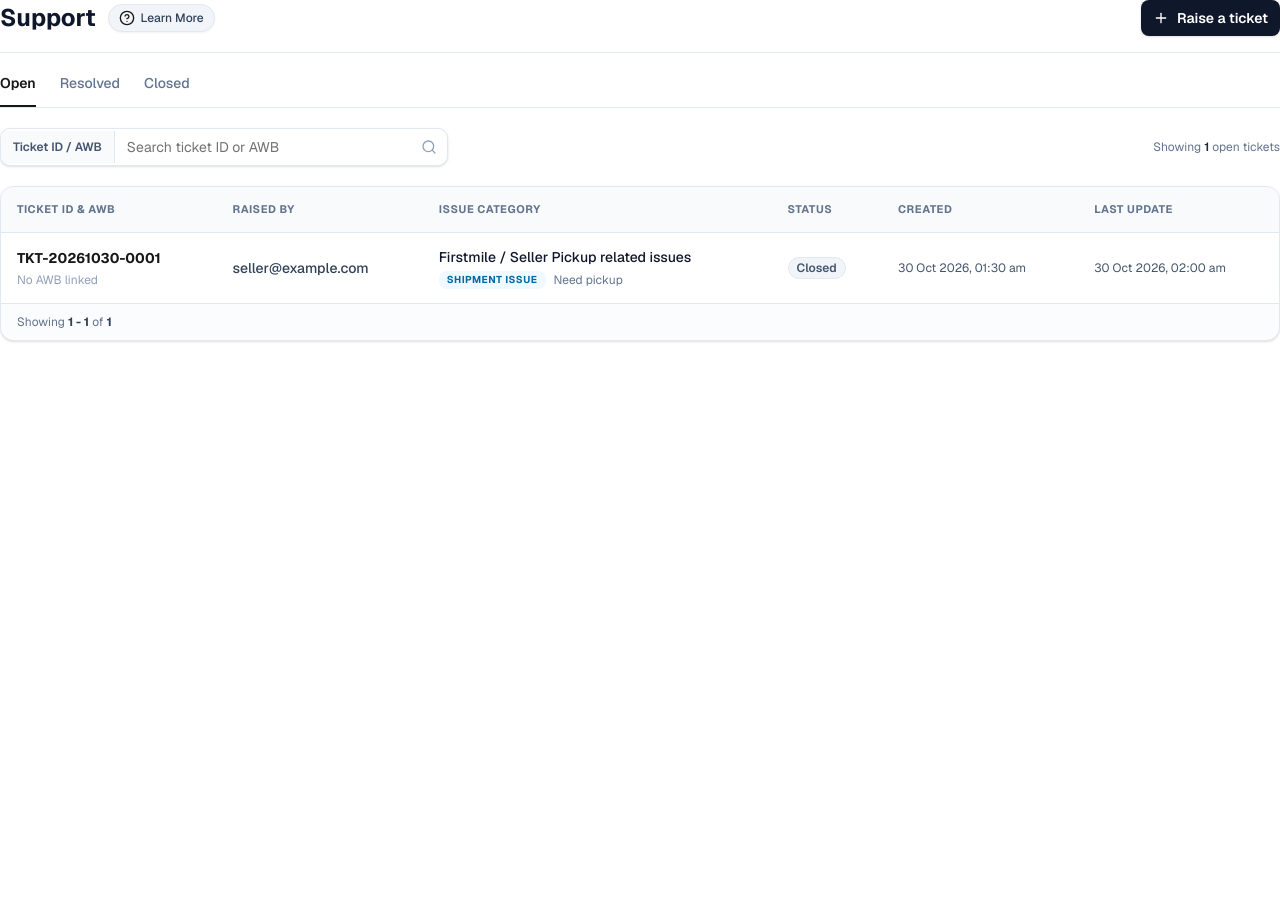
Test: Support tickets D-19 & IST timestamps (F-02) › labels support_user as Support Agent and blocks customer replies on CLOSED tickets
This screenshot has width=1280, height=900.
Step 1. Click the text "TKT-20261030-0001" → (89, 258), box x1=17 y1=249 x2=161 y2=267
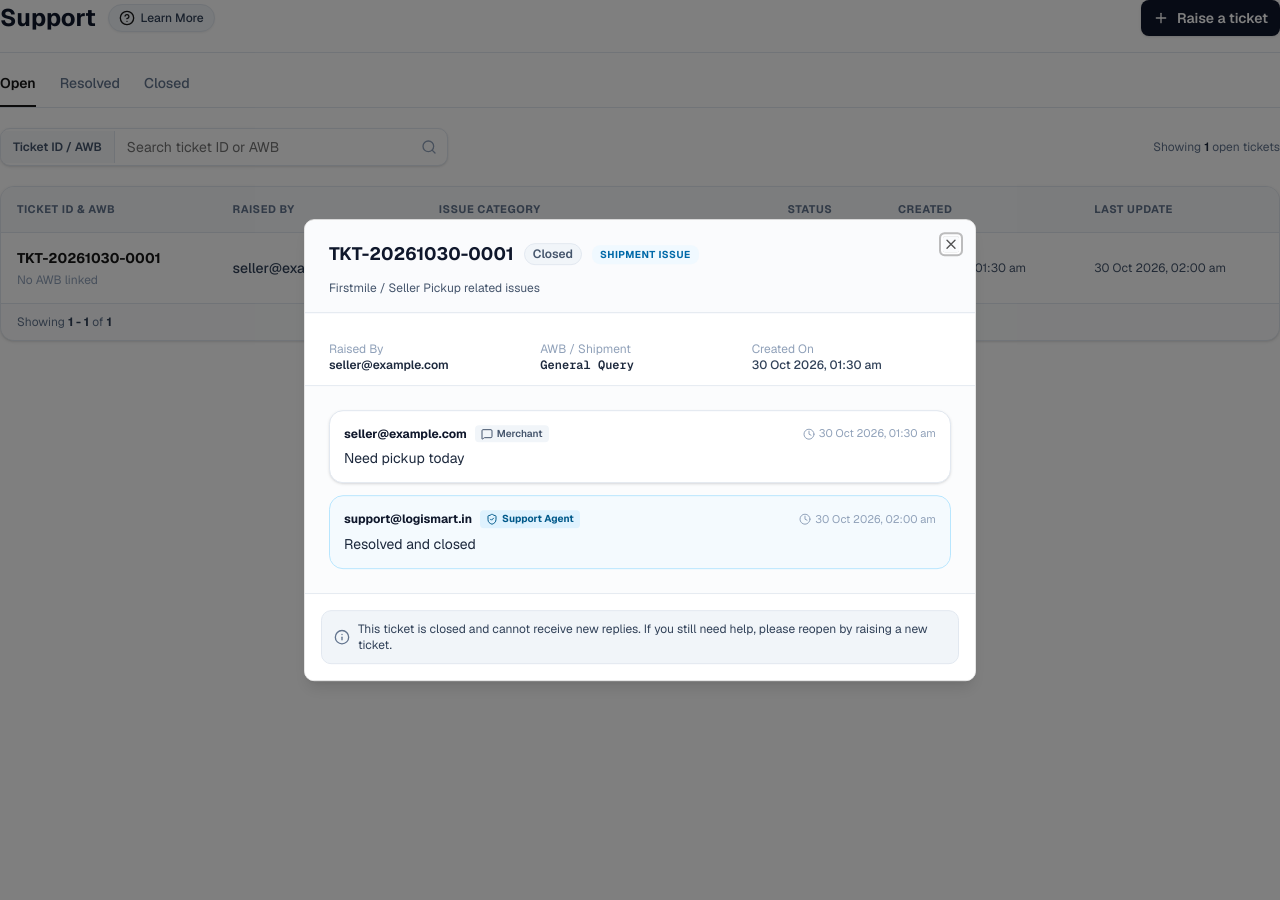
Expected: the text "Support Agent" is shown, x1=480 y1=510 x2=580 y2=528
Expected: the element with test id "closed-ticket-customer-notice" shows "This ticket is closed and cannot receive new replies. If you still need help, please reopen by raising a new ticket.", x1=358 y1=621 x2=928 y2=653
Expected: the element with test id "closed-ticket-customer-notice" shows "reopen by raising a new ticket", x1=358 y1=621 x2=928 y2=653
